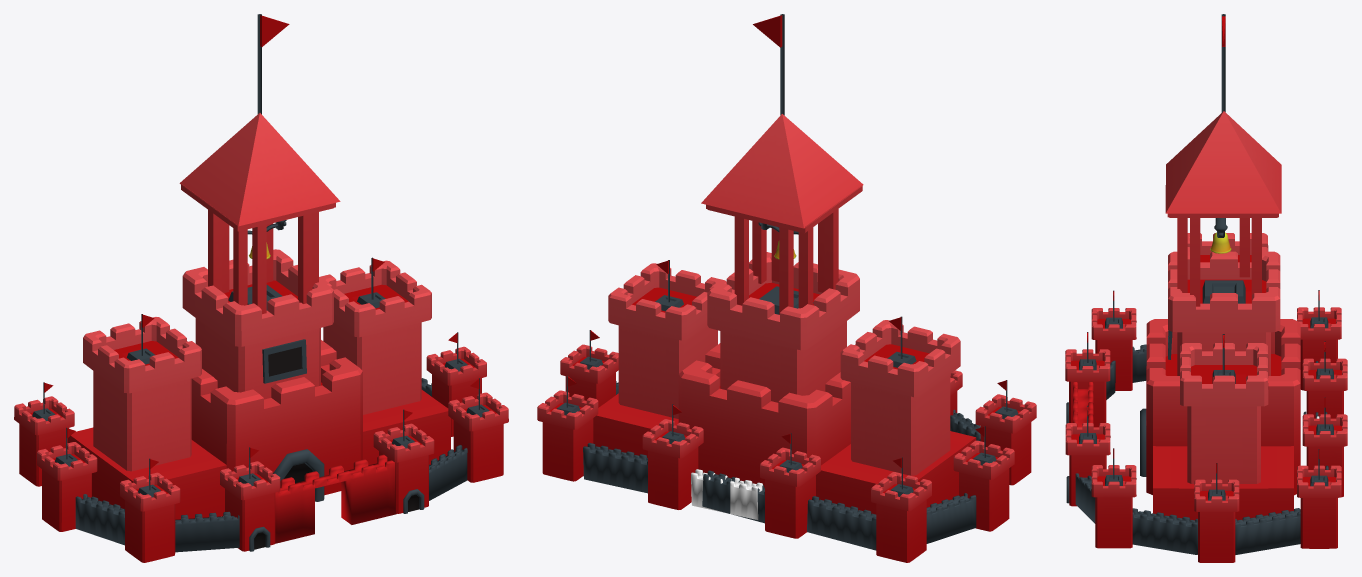
Rendered from castle.fbx.
The picture shows the model from 3 angles, left to right: view 1: azimuth 30°, elevation 25°; view 2: azimuth 150°, elevation 25°; view 3: azimuth 270°, elevation 25°; orthographic projection. The views are drawn at different scales.
Visible parts, largest first — view 1: castle; view 2: castle; view 3: castle.
Boxes of the visible parts, box(x1,y1,x2,y2) form: castle: box(14, 14, 508, 562); castle: box(537, 14, 1036, 562); castle: box(1065, 14, 1347, 562).
Bounding box in the file's own units: 446 × 457 × 259.
